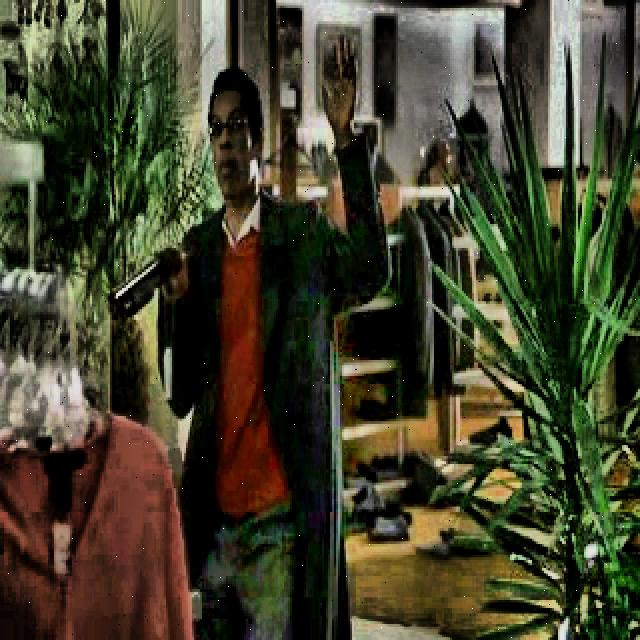L: (110, 31, 390, 637)
